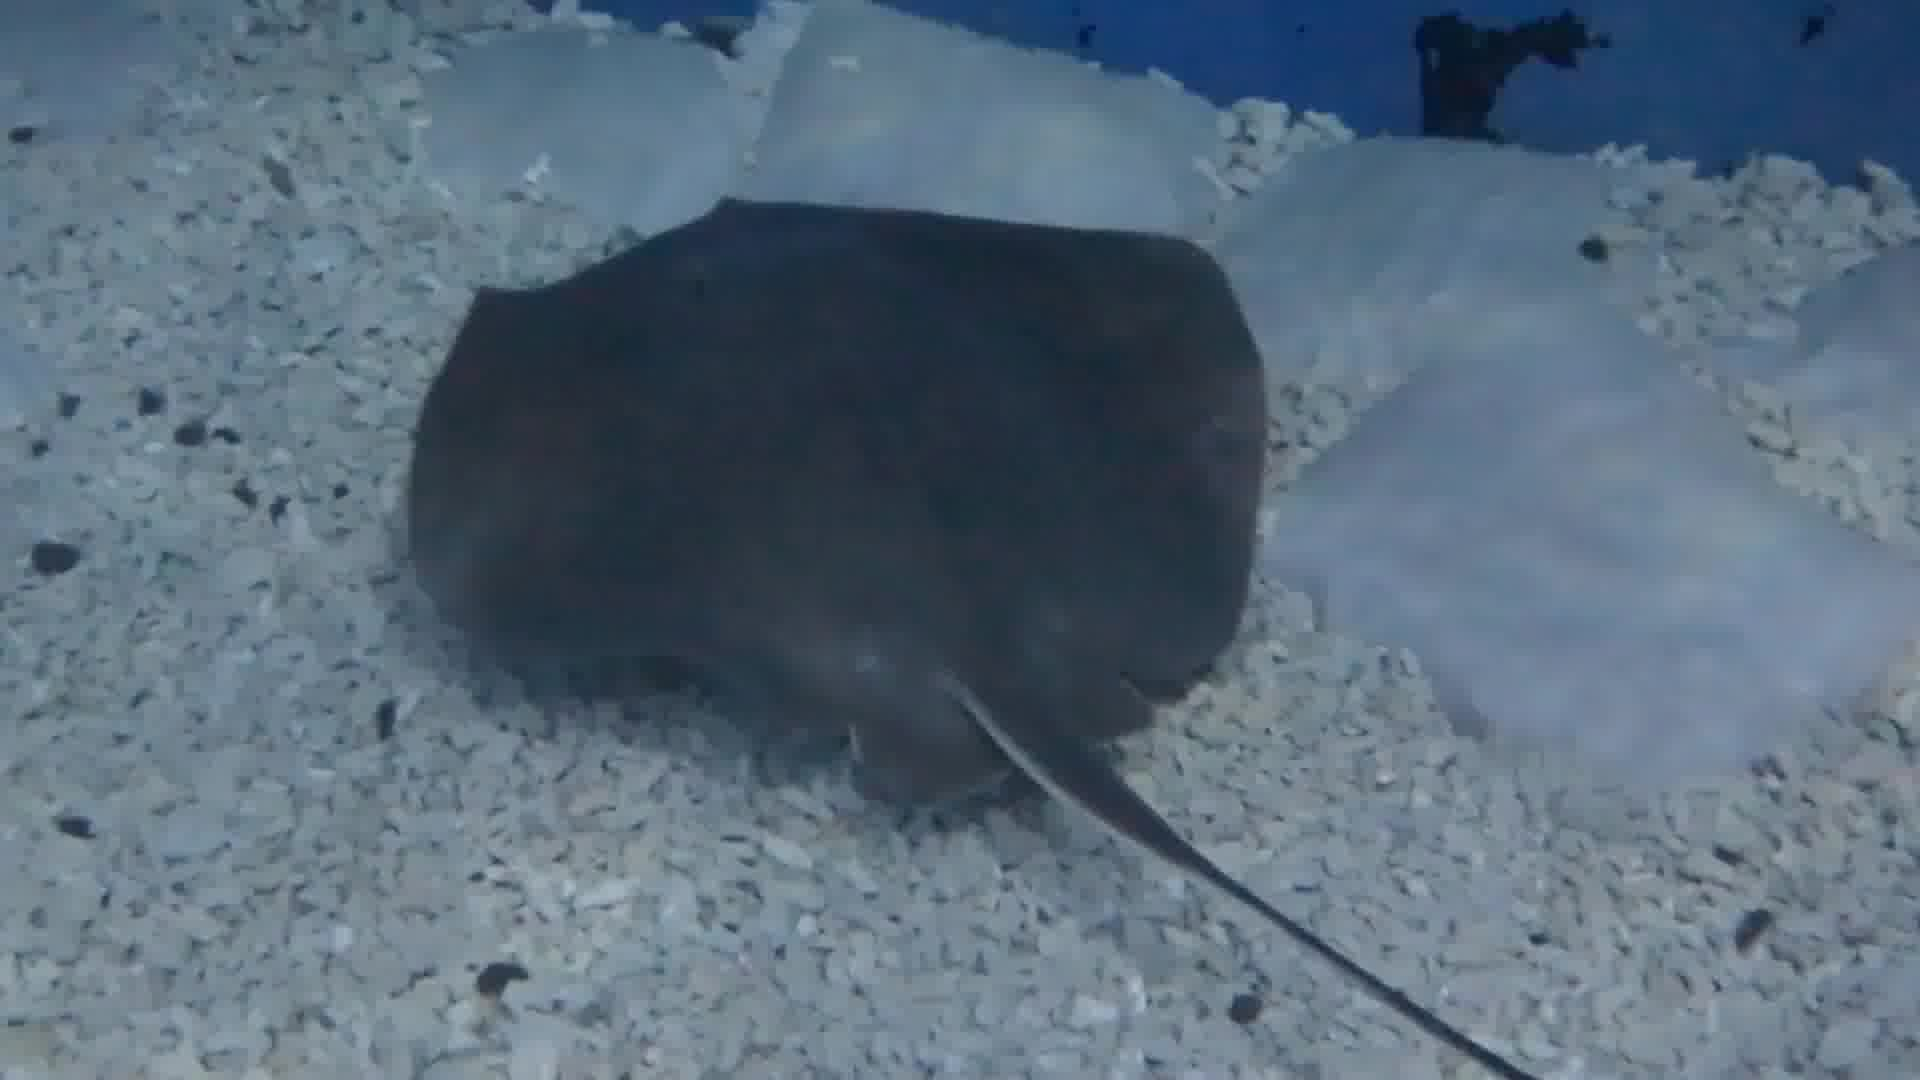Dasyatis bennetti: (316, 86, 1356, 915)
